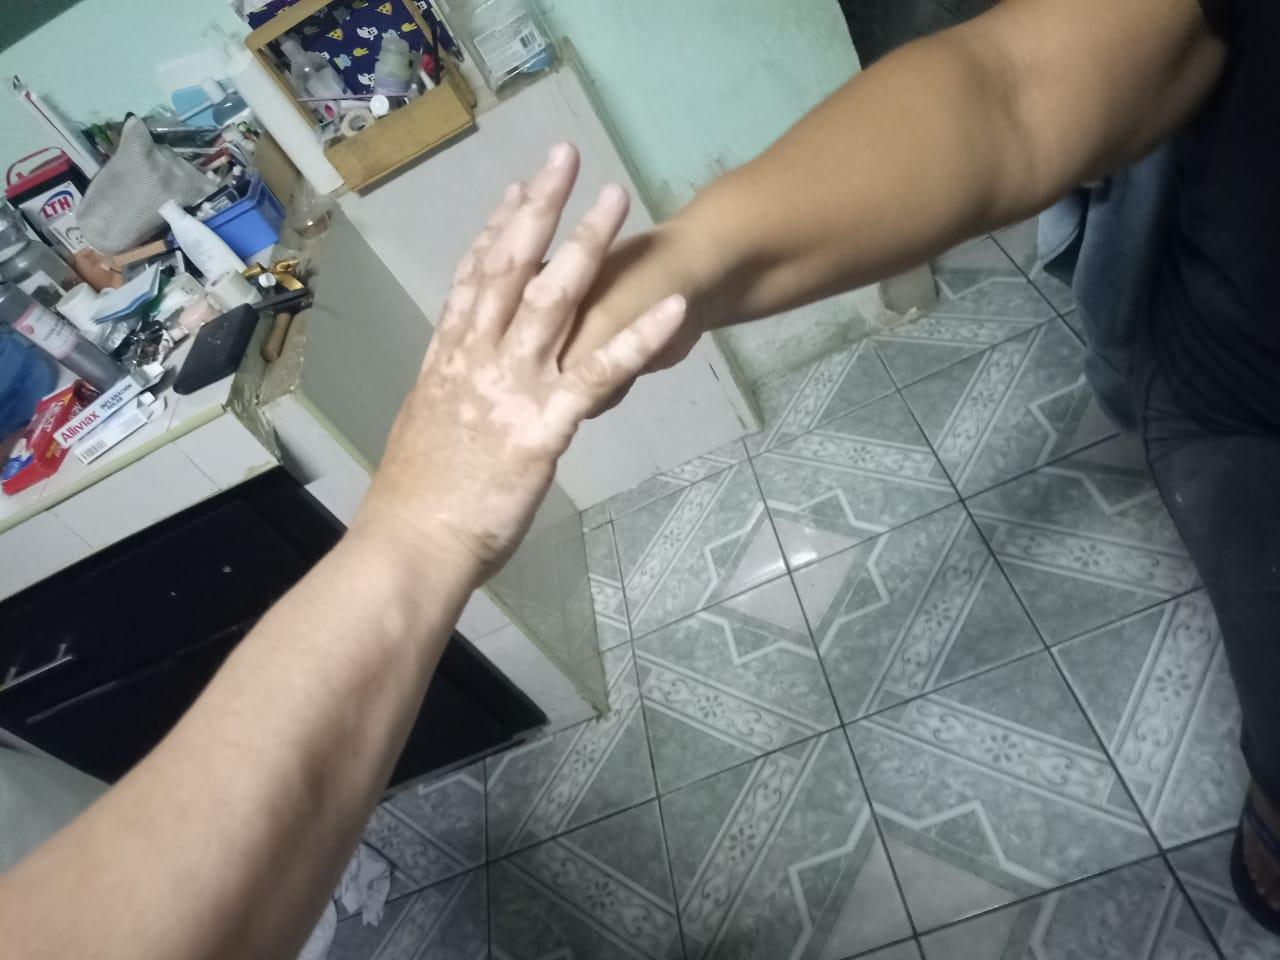Paper: (309, 128, 705, 608)
Stone: (512, 163, 778, 428)
